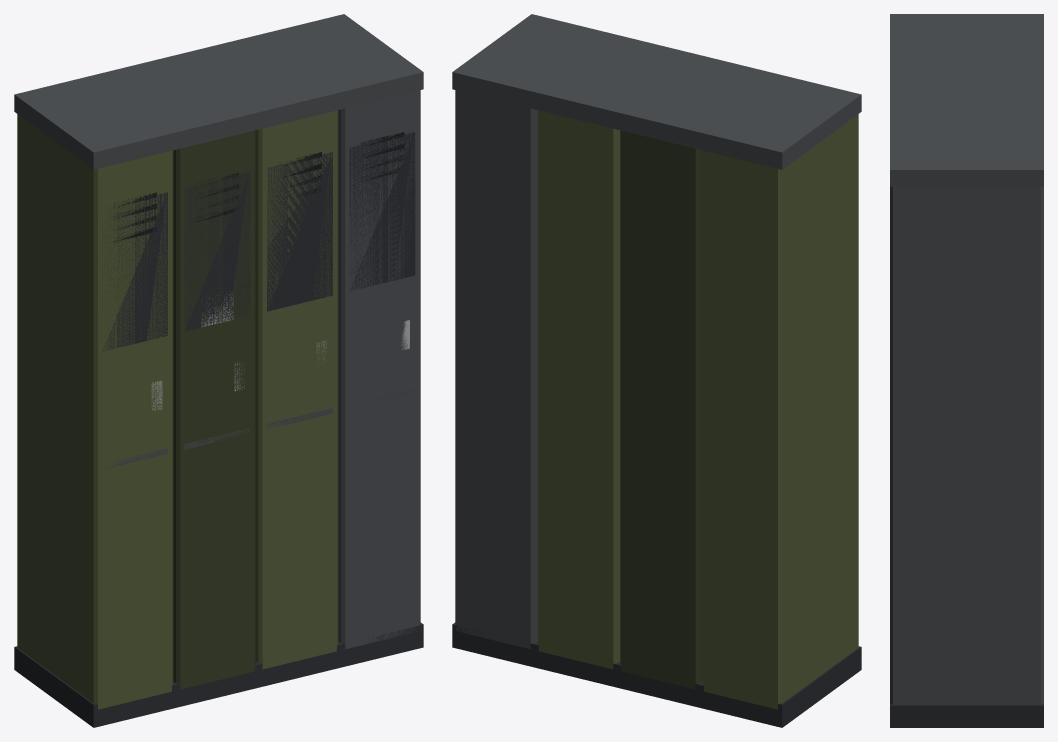
File: bunker_locker.fbx
3 renders of one model, left to right at view 1: azimuth 30°, elevation 25°; view 2: azimuth 150°, elevation 25°; view 3: azimuth 270°, elevation 25°, orthographic. The views are drawn at different scales.
Parts seen in each view (by area): view 1: bunker_locker; view 2: bunker_locker; view 3: bunker_locker.
Boxes of the visible parts, x1=… form: bunker_locker: x1=14, y1=14, x2=423, y2=727; bunker_locker: x1=452, y1=14, x2=861, y2=727; bunker_locker: x1=890, y1=14, x2=1043, y2=727.
Size of the model in its own units: 1.2 by 2 by 0.5.
